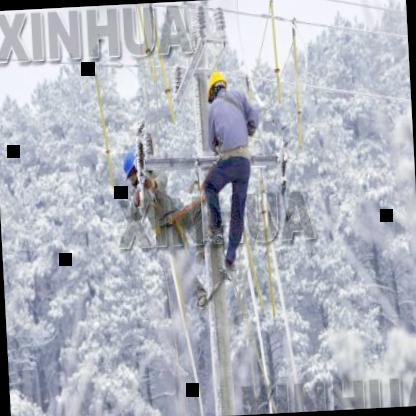helmet: (115, 148, 150, 192), (201, 71, 230, 107)
